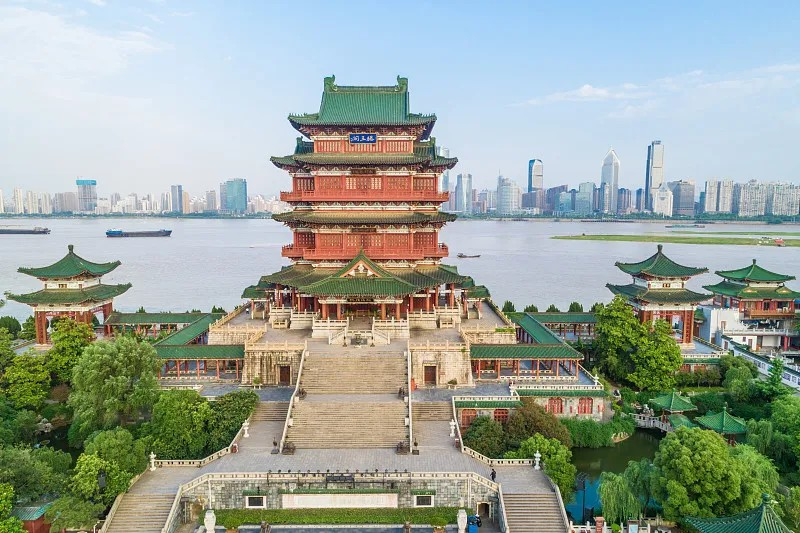Teng: (241, 75, 490, 320)
